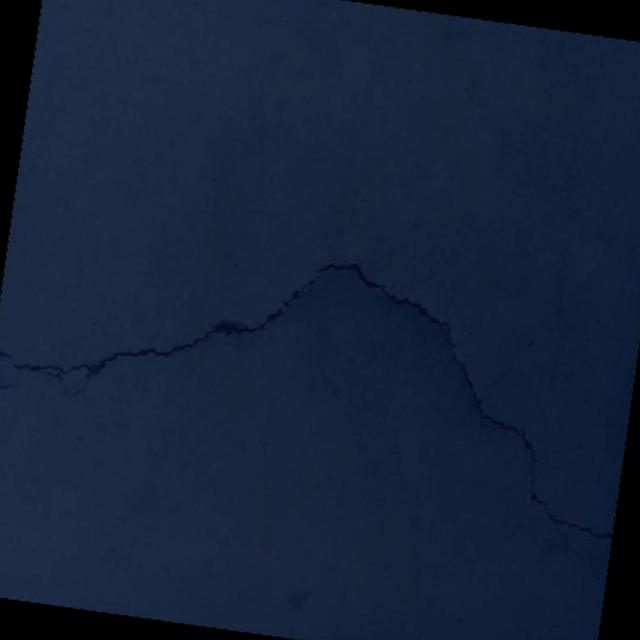crack: (1, 215, 640, 542), (554, 532, 612, 584), (0, 378, 26, 393), (0, 345, 14, 359)
